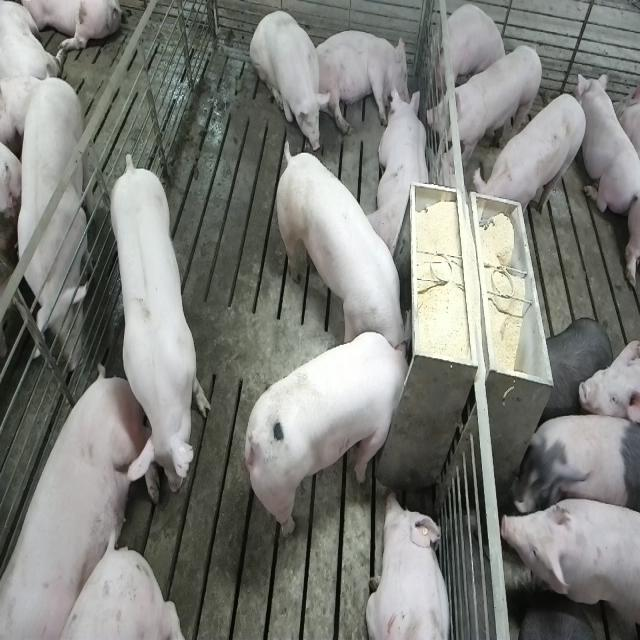Feeding: (249, 331, 419, 540), (274, 138, 409, 360)
Lateral_lying: (3, 362, 161, 636), (314, 28, 410, 136)
Sitting: (250, 8, 330, 156)
Standing: (105, 150, 208, 509), (2, 74, 94, 396), (499, 494, 638, 640), (473, 92, 588, 235), (426, 43, 543, 170), (515, 414, 637, 523), (540, 318, 613, 422)
Sternal_lying: (366, 491, 454, 640), (370, 85, 432, 261), (579, 72, 638, 222), (436, 2, 507, 86)
